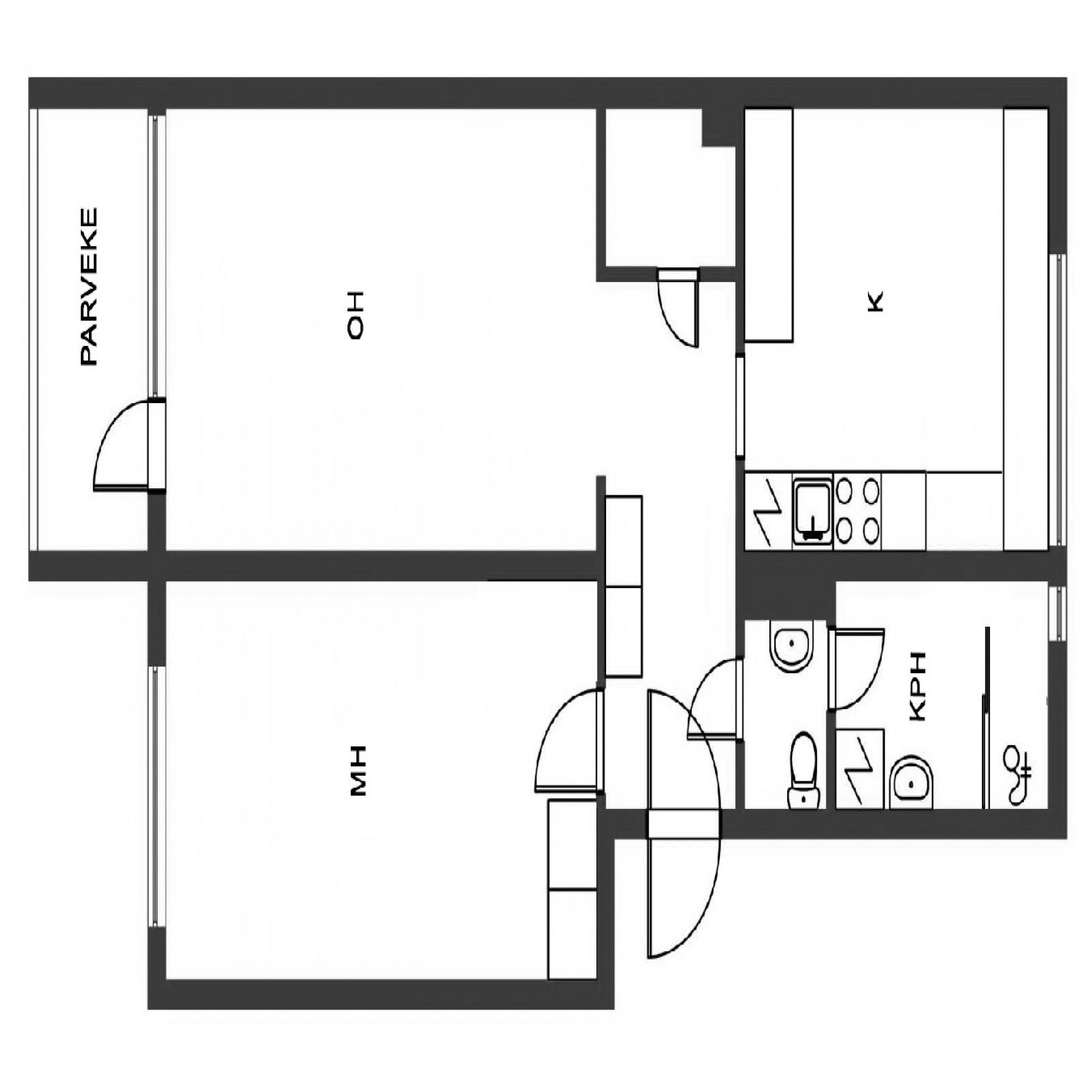wall: (147, 76, 1067, 108), (147, 76, 165, 1009), (1047, 76, 1067, 840), (597, 809, 1067, 840), (147, 979, 615, 1009), (165, 551, 605, 580), (827, 551, 1067, 581), (736, 551, 836, 619), (736, 266, 745, 838), (597, 809, 615, 1009), (27, 76, 147, 105), (27, 551, 147, 580), (701, 76, 745, 148), (826, 551, 835, 840), (596, 266, 745, 281), (596, 551, 604, 809), (596, 108, 605, 281), (736, 148, 745, 281), (596, 476, 605, 580)
